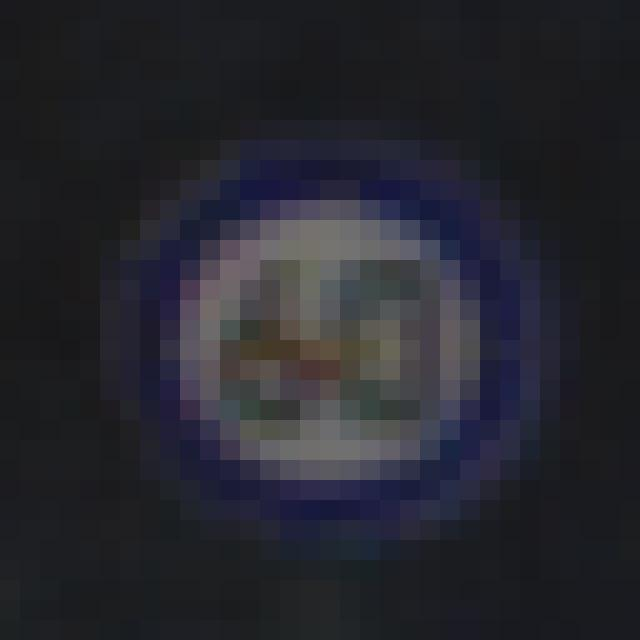SPEED-LIMIT-60: (86, 112, 577, 569)
